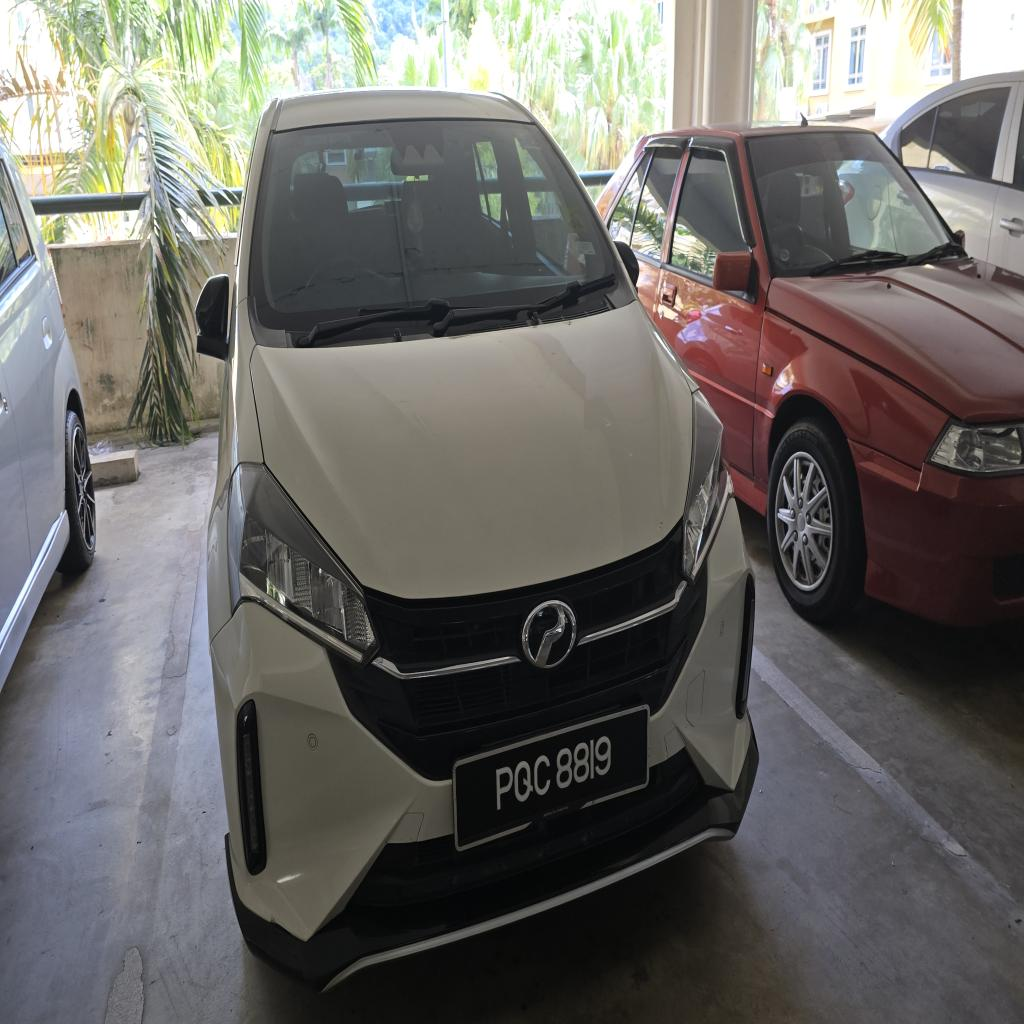car: (197, 90, 757, 987)
car plate: (453, 706, 649, 849)
